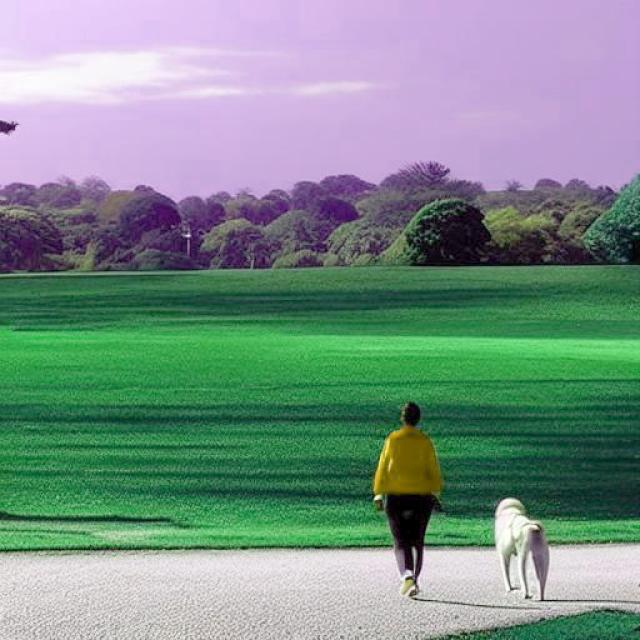Unleashed_Dog: (386, 483, 551, 603)
